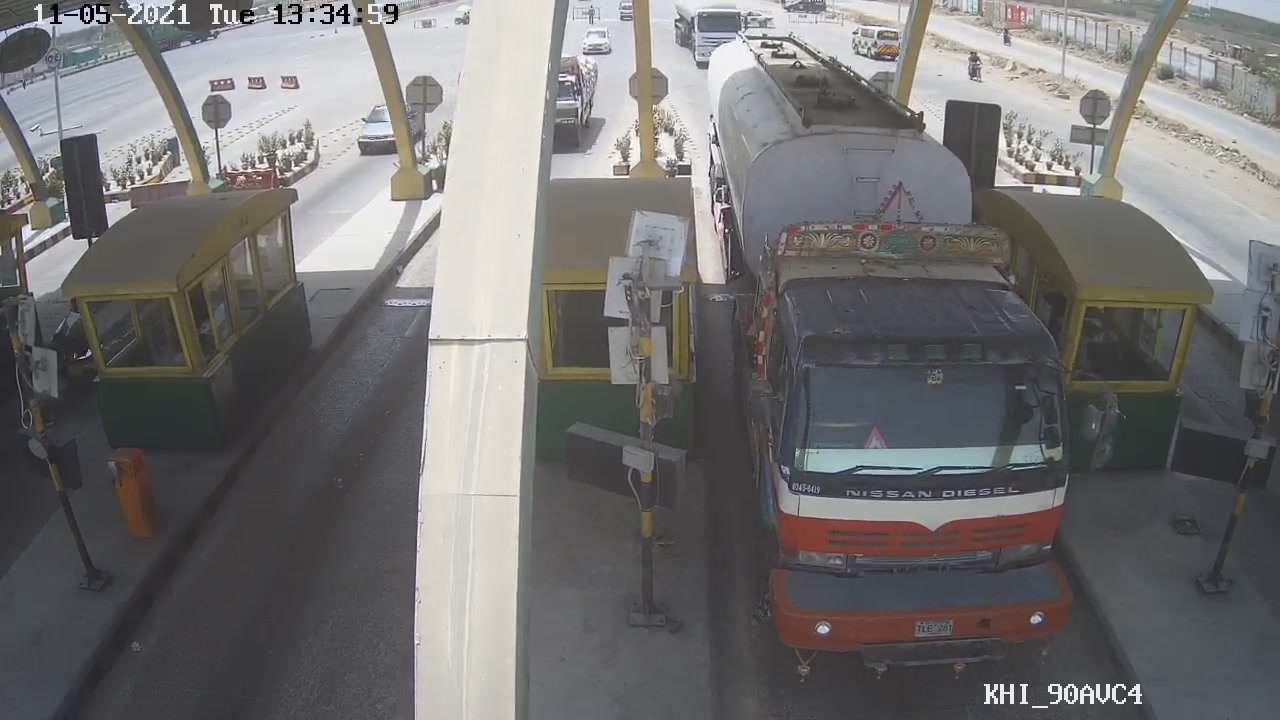F6: (701, 38, 1081, 681)
